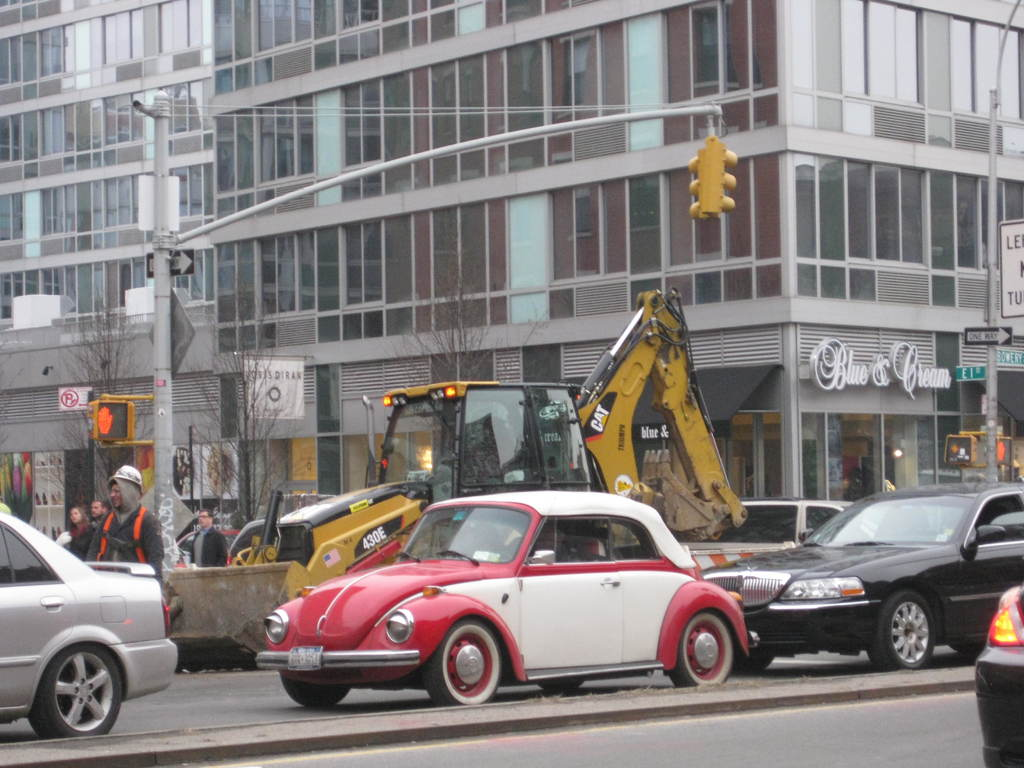Car: (252, 489, 764, 707), (705, 478, 1023, 666), (0, 509, 182, 738), (696, 499, 888, 570), (971, 586, 1023, 767), (176, 527, 244, 570)
